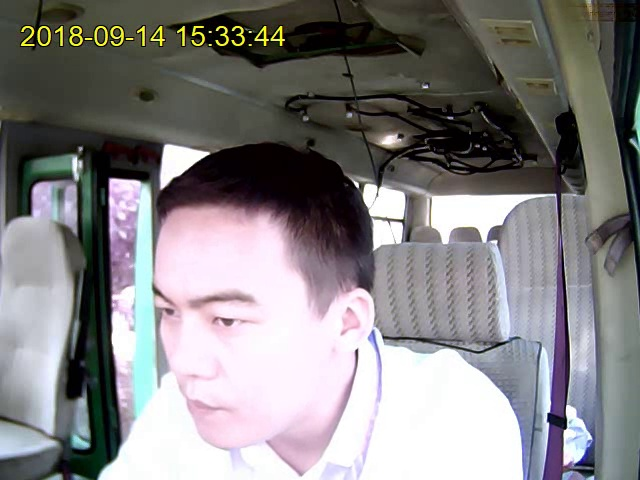closed_mouth: (184, 394, 224, 419)
open_eye: (208, 312, 254, 332), (154, 306, 179, 321)
